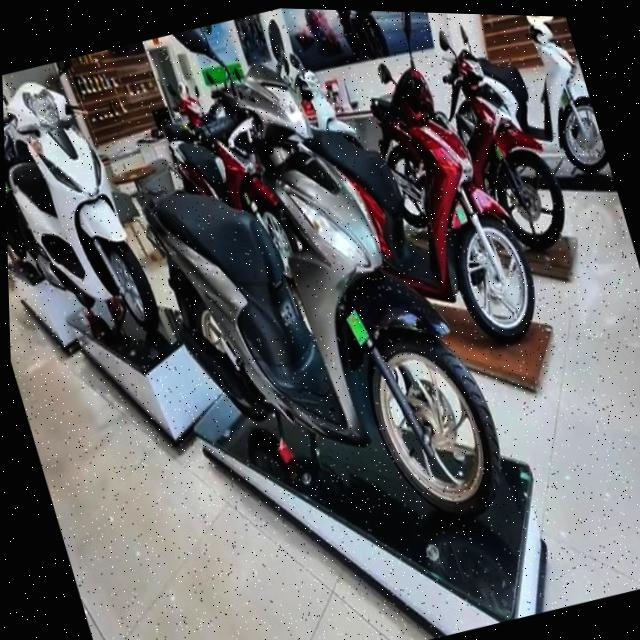motorcycle: (96, 3, 524, 584), (351, 64, 556, 379), (2, 67, 171, 374), (442, 35, 585, 258)
